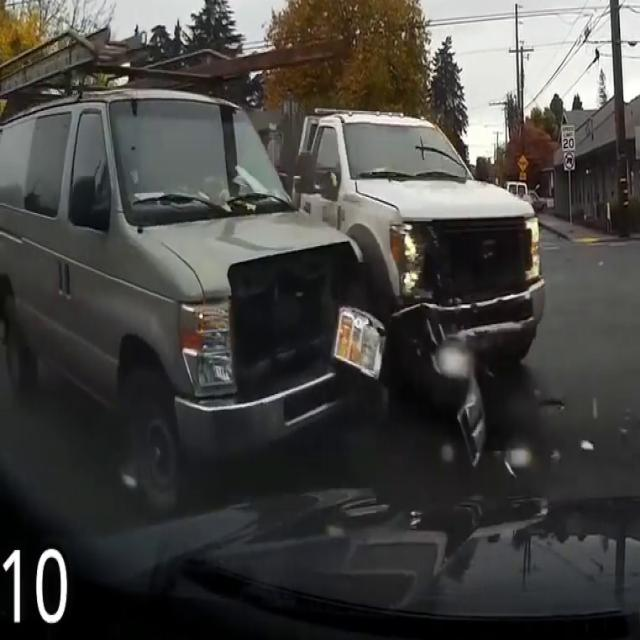accident: (47, 97, 550, 482)
